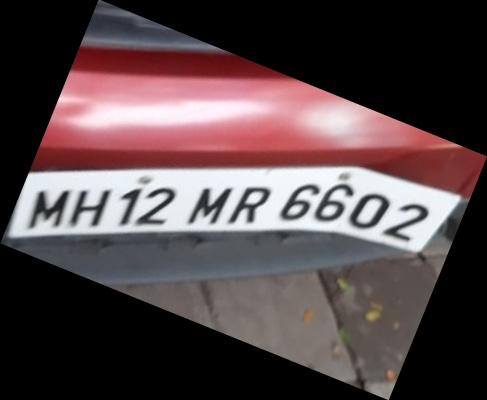character: (382, 203, 429, 241), (27, 188, 69, 230), (187, 186, 231, 225), (227, 186, 271, 224), (135, 187, 176, 226), (314, 182, 353, 223), (347, 192, 389, 230), (280, 182, 320, 220), (71, 189, 110, 225), (118, 186, 142, 227)
